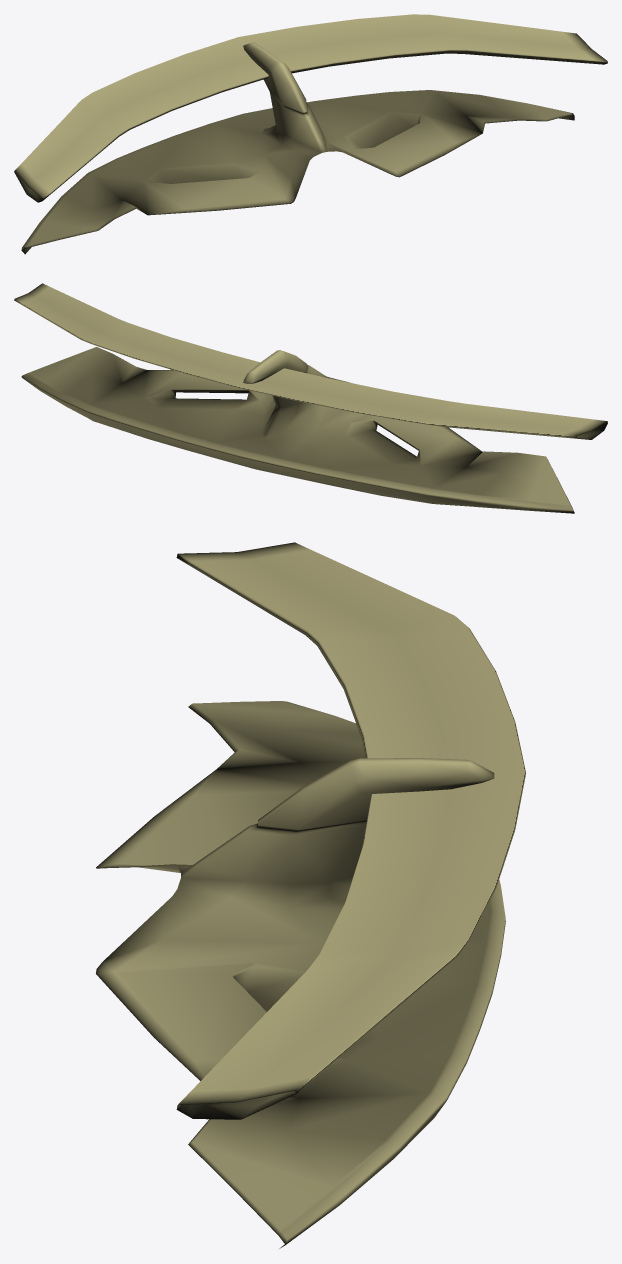
The model's file is Aventador_Spoiler_Duco.fbx.
The picture shows the model from 3 angles, top to bottom: view 1: azimuth 30°, elevation 25°; view 2: azimuth 150°, elevation 25°; view 3: azimuth 270°, elevation 25°; orthographic projection. The views are drawn at different scales.
Parts seen in each view (by area): view 1: Aventador_Spoiler_Duco; view 2: Aventador_Spoiler_Duco; view 3: Aventador_Spoiler_Duco.
Part boxes in pixels (x1,y1,x2,y2): Aventador_Spoiler_Duco: (14,14,607,254); Aventador_Spoiler_Duco: (14,283,607,513); Aventador_Spoiler_Duco: (96,542,525,1248).
Size of the model in its own units: 174 by 32.54 by 57.4.
